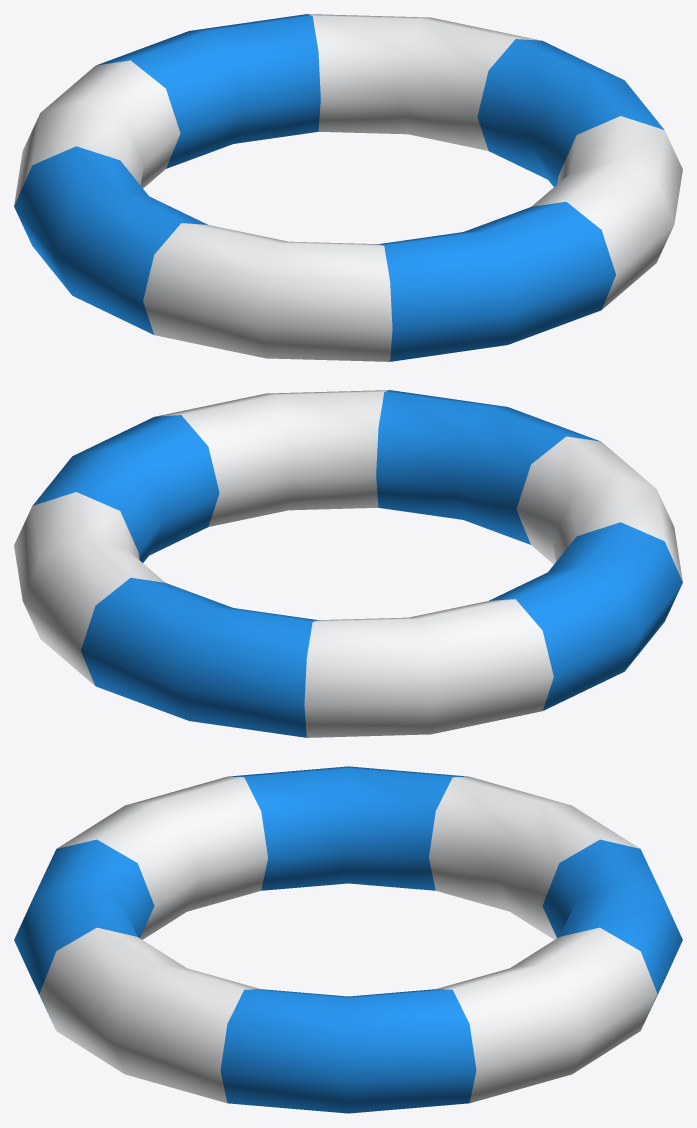
Rendered from M_youyongquan02.FBX.
The picture shows the model from 3 angles, top to bottom: view 1: azimuth 30°, elevation 25°; view 2: azimuth 150°, elevation 25°; view 3: azimuth 270°, elevation 25°; orthographic projection.
Visible parts, largest first — view 1: M_youyongquan02; view 2: M_youyongquan02; view 3: M_youyongquan02.
Part boxes in pixels (x1,y1,x2,y2): M_youyongquan02: (14, 14, 682, 361); M_youyongquan02: (14, 390, 682, 737); M_youyongquan02: (14, 766, 682, 1113).
Size of the model in its own units: 1.23 by 0.2282 by 1.23.
